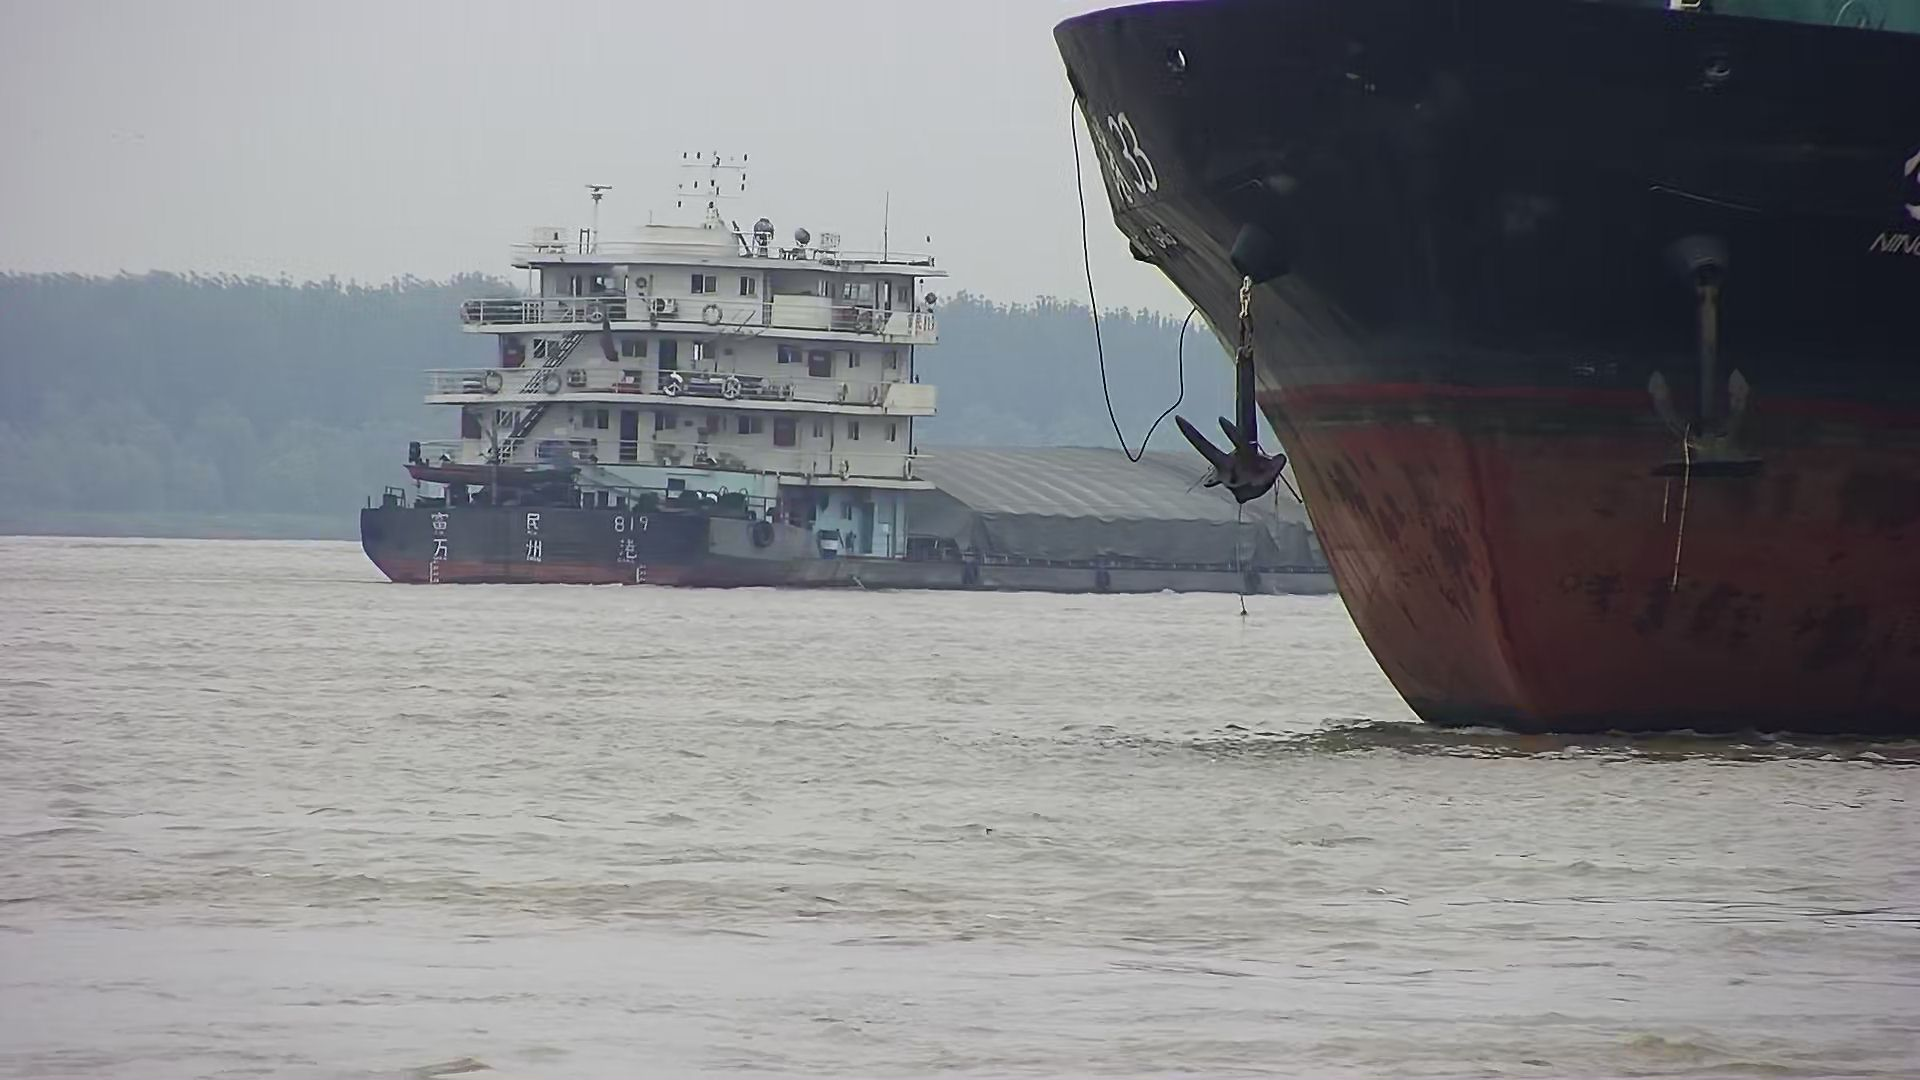ship: (1044, 1, 1920, 740), (355, 146, 1586, 585)
